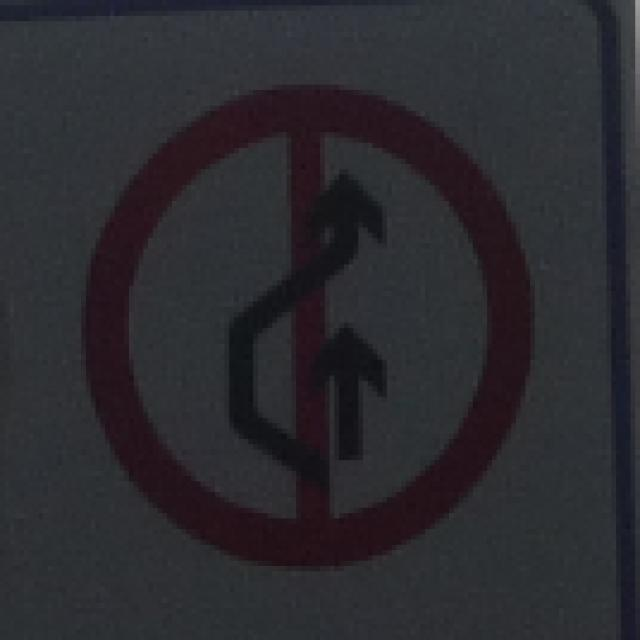Not that Direction: (70, 78, 538, 568)
